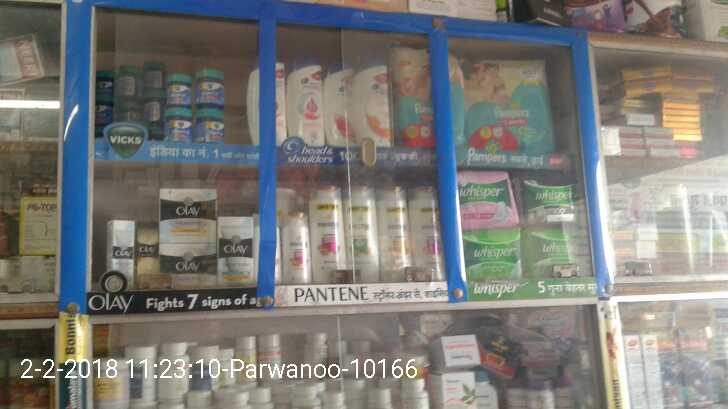vicks: (94, 57, 226, 145)
